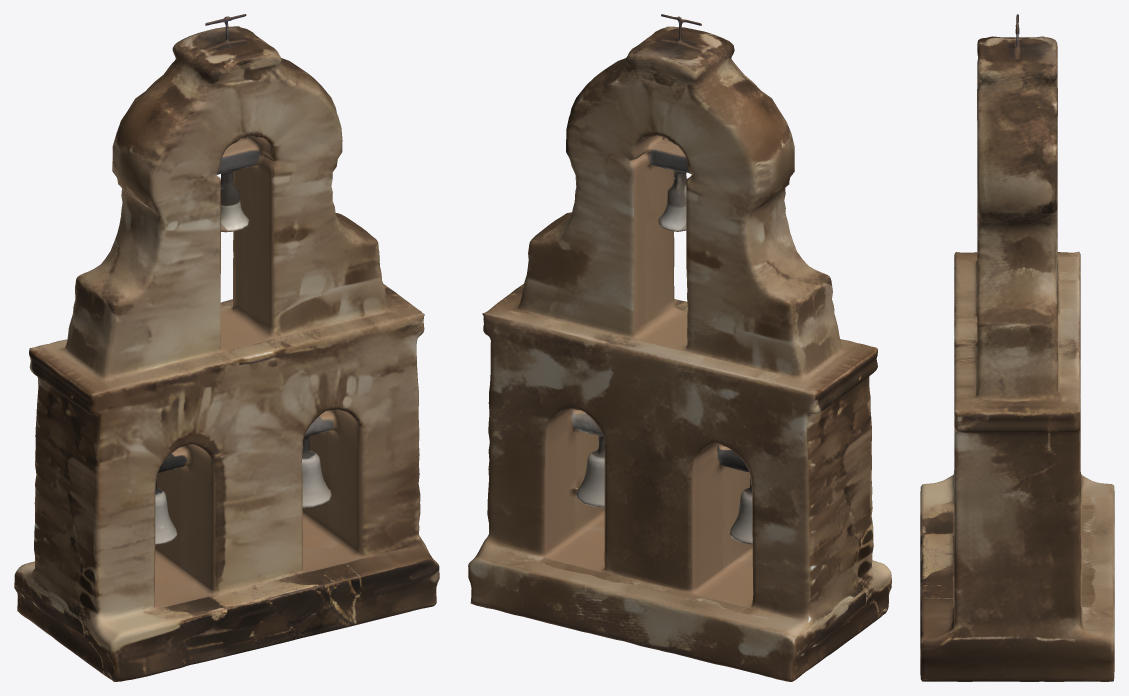
Rendered from gonzales.glb.
The picture shows the model from 3 angles, left to right: view 1: azimuth 30°, elevation 25°; view 2: azimuth 150°, elevation 25°; view 3: azimuth 270°, elevation 25°; orthographic projection.
Visible parts, largest first — view 1: model; view 2: model; view 3: model.
Part boxes in pixels (x1,y1,x2,y2): model: [14, 14, 439, 681]; model: [468, 14, 891, 681]; model: [920, 14, 1114, 681].
Bounding box in the file's own units: 1.08 × 1.83 × 0.5513.
1 material, 1 textured.
